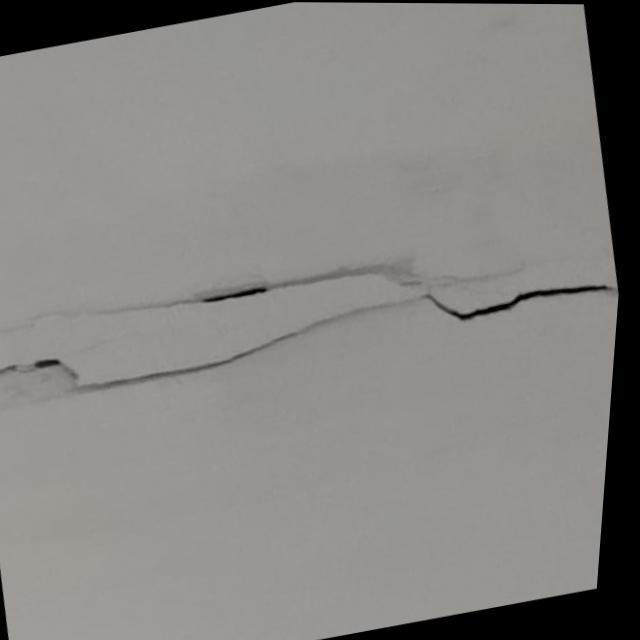Crack: (2, 262, 608, 398)
